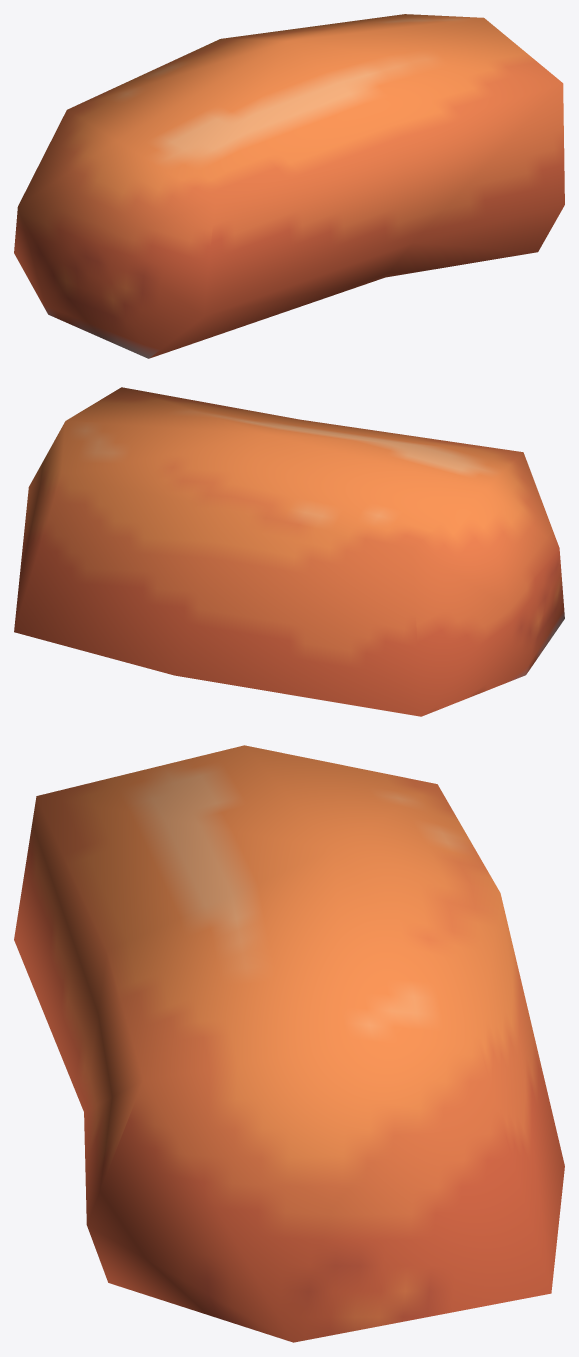
File: Pixel_Misc_S_008.fbx
3 renders of one model, top to bottom at view 1: azimuth 30°, elevation 25°; view 2: azimuth 150°, elevation 25°; view 3: azimuth 270°, elevation 25°, orthographic. The views are drawn at different scales.
Parts seen in each view (by area): view 1: Pixel_Misc_S_008; view 2: Pixel_Misc_S_008; view 3: Pixel_Misc_S_008.
Boxes of the visible parts, left/top/right/bottom form: Pixel_Misc_S_008: left=14, top=14, right=564, bottom=358; Pixel_Misc_S_008: left=14, top=387, right=564, bottom=716; Pixel_Misc_S_008: left=14, top=745, right=564, bottom=1342.
Bounding box in the file's own units: 43.96 × 16.19 × 26.67.
